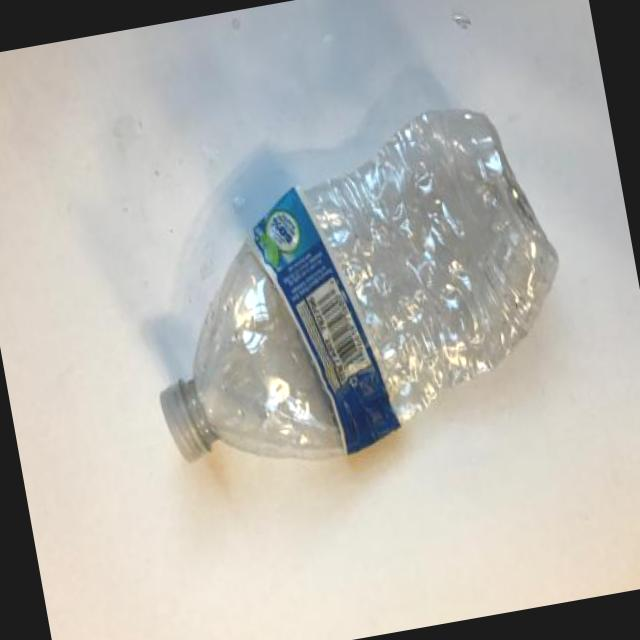Recycle: (117, 91, 582, 487)
